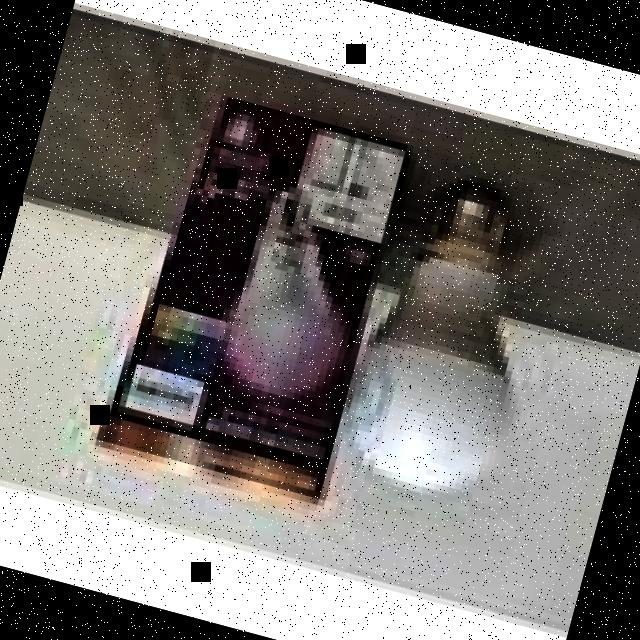light_bulb: (314, 152, 576, 526)
